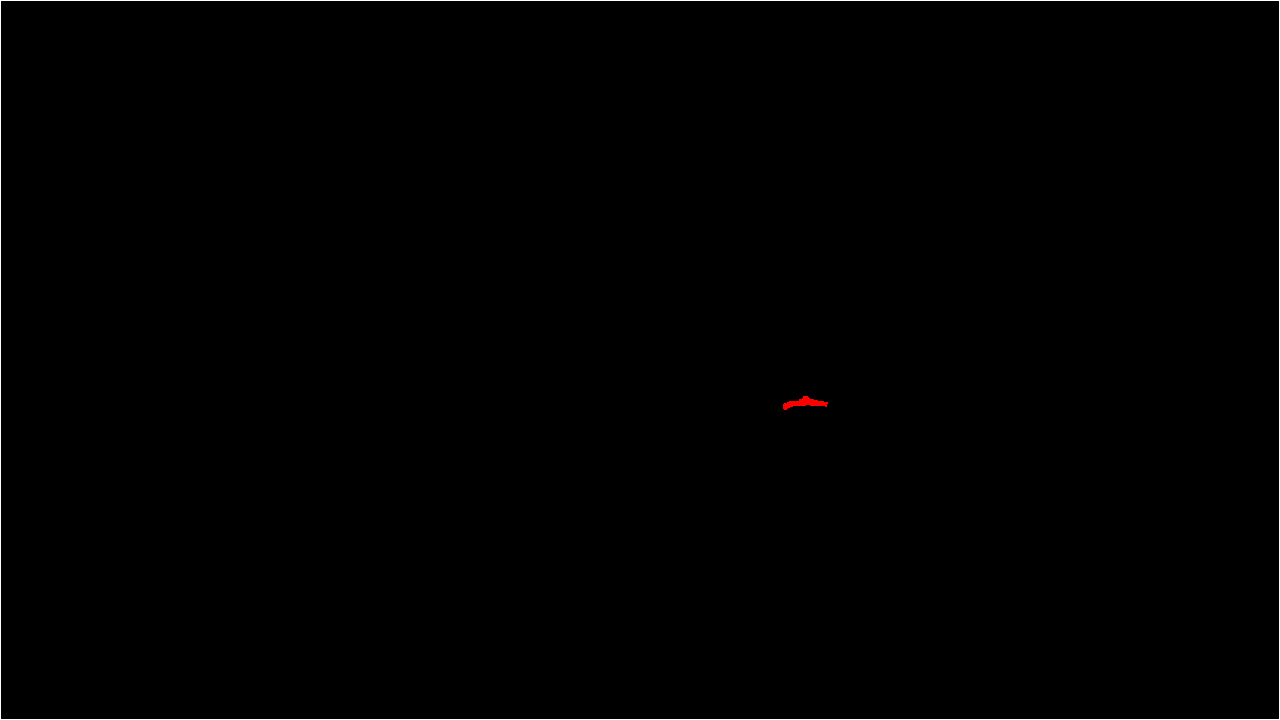drone: (765, 378, 837, 419)
